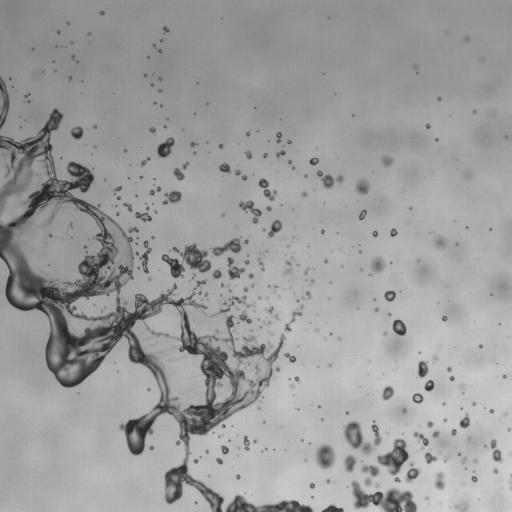droplet: (161, 243, 211, 277), (377, 438, 409, 482), (343, 421, 381, 455), (315, 443, 335, 469), (317, 170, 343, 188), (360, 464, 379, 486), (227, 257, 244, 279), (157, 137, 174, 157), (404, 462, 420, 482), (162, 190, 181, 204), (370, 256, 385, 273), (268, 219, 282, 237), (135, 206, 151, 221), (392, 319, 406, 335), (344, 454, 356, 472), (355, 179, 369, 194), (382, 385, 394, 400), (434, 471, 444, 489), (433, 236, 446, 249), (265, 306, 278, 319), (418, 361, 428, 377), (71, 126, 83, 139), (238, 311, 251, 323), (424, 451, 437, 463), (459, 414, 470, 428), (173, 167, 184, 180), (384, 290, 395, 301), (382, 156, 393, 166), (219, 163, 230, 173), (412, 393, 423, 403), (425, 380, 434, 391), (212, 269, 222, 278), (455, 504, 467, 511), (123, 202, 132, 211), (309, 157, 318, 165), (302, 291, 311, 299), (276, 150, 285, 157), (359, 210, 366, 219), (221, 445, 228, 454), (390, 228, 397, 236), (276, 132, 281, 142), (128, 227, 138, 232), (464, 172, 472, 178), (245, 151, 251, 158), (182, 162, 188, 169), (67, 222, 73, 229), (432, 431, 439, 437), (471, 475, 477, 482), (149, 127, 155, 133), (235, 169, 241, 175), (427, 421, 433, 427), (216, 458, 222, 464), (190, 142, 197, 147), (163, 26, 168, 32), (243, 286, 248, 292), (432, 356, 437, 362), (294, 376, 299, 382), (309, 482, 314, 488), (373, 230, 377, 237), (302, 192, 307, 197), (248, 273, 253, 278), (451, 429, 456, 434), (493, 468, 498, 473), (304, 268, 308, 274), (444, 456, 448, 462), (462, 457, 466, 463), (465, 36, 469, 41), (246, 131, 250, 136), (218, 144, 223, 148), (242, 175, 246, 180), (266, 206, 271, 210), (47, 233, 52, 237), (244, 260, 249, 264), (442, 316, 446, 321), (449, 376, 454, 380), (402, 408, 406, 413), (489, 409, 494, 413), (193, 459, 198, 463), (473, 459, 478, 463), (326, 478, 330, 483), (100, 10, 104, 14), (426, 124, 430, 128), (263, 153, 267, 157), (374, 307, 378, 311), (447, 367, 451, 371), (290, 384, 294, 388), (253, 439, 257, 443), (149, 446, 153, 450), (236, 475, 240, 479), (375, 483, 379, 487), (413, 64, 416, 69), (25, 93, 28, 97), (93, 125, 97, 128), (192, 273, 195, 277), (310, 279, 314, 282), (221, 283, 225, 286), (388, 312, 391, 316), (383, 332, 387, 335), (479, 344, 482, 348), (503, 374, 506, 378), (443, 418, 446, 422), (438, 97, 441, 100), (288, 160, 291, 163), (117, 196, 120, 199), (221, 213, 224, 216), (321, 230, 324, 233), (324, 259, 327, 262), (148, 277, 151, 280), (315, 328, 318, 331), (328, 363, 331, 366), (472, 402, 475, 405), (274, 286, 276, 290), (504, 411, 506, 415), (57, 31, 60, 33), (159, 49, 161, 52), (72, 55, 74, 58), (159, 89, 161, 92), (504, 136, 507, 138), (288, 140, 290, 143), (124, 149, 126, 152), (193, 152, 196, 154), (6, 172, 8, 175), (140, 176, 143, 178), (409, 207, 412, 209), (116, 213, 119, 215), (251, 284, 254, 286), (205, 293, 207, 296), (236, 307, 239, 309), (330, 332, 332, 335), (147, 388, 150, 390), (346, 411, 348, 414), (507, 428, 510, 430), (218, 435, 221, 437), (467, 437, 469, 440), (205, 450, 208, 452), (425, 496, 427, 499), (144, 74, 146, 76), (435, 138, 437, 140), (293, 167, 295, 169), (135, 194, 137, 196), (151, 236, 153, 238), (84, 246, 86, 248), (259, 326, 261, 328), (338, 338, 340, 340), (318, 405, 320, 407), (258, 407, 260, 409), (263, 448, 265, 450)
ligament: (0, 114, 313, 511), (351, 480, 416, 511), (211, 295, 255, 317), (210, 238, 248, 256), (238, 200, 261, 223), (284, 305, 303, 331), (0, 77, 9, 128), (258, 178, 277, 201), (490, 439, 502, 462), (413, 432, 428, 448), (284, 257, 294, 274), (321, 504, 343, 511), (149, 186, 160, 195), (284, 353, 295, 362), (244, 436, 250, 450), (258, 259, 264, 270), (141, 157, 149, 165), (113, 186, 121, 194), (508, 474, 511, 490), (262, 320, 271, 325), (460, 384, 464, 393)
